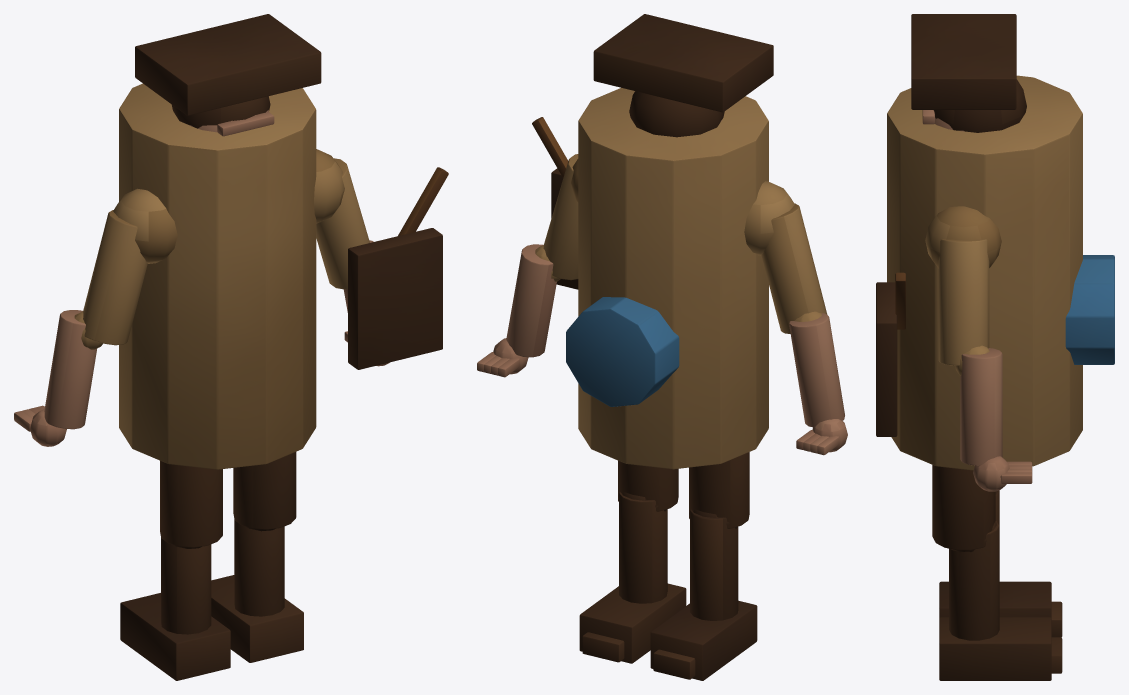
Rendered from unit_freetown_dockmaster.fbx.
3 views of the same model, side by side, from view 1: azimuth 30°, elevation 25°; view 2: azimuth 150°, elevation 25°; view 3: azimuth 270°, elevation 25° (orthographic). The views are drawn at different scales.
Visible parts, largest first — view 1: unit_freetown_dockmaster; view 2: unit_freetown_dockmaster; view 3: unit_freetown_dockmaster.
Part boxes in pixels (x1=…): unit_freetown_dockmaster: x1=14, y1=14, x2=448, y2=680; unit_freetown_dockmaster: x1=477, y1=14, x2=847, y2=680; unit_freetown_dockmaster: x1=876, y1=14, x2=1114, y2=680.
Size of the model in its own units: 1.2 by 1.9 by 0.68.
